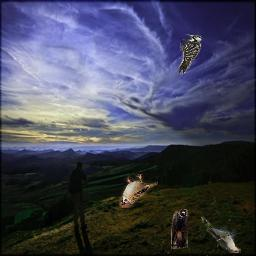Cuckoo: (201, 216, 241, 253)
Sparrow: (119, 174, 158, 208)
Swallow: (171, 209, 188, 249)
Woodpecker: (178, 34, 202, 74)
